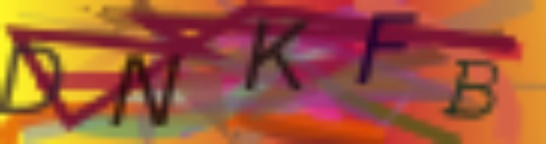B: (440, 55, 504, 120)
D: (1, 45, 64, 117)
F: (355, 5, 420, 86)
K: (246, 15, 308, 95)
N: (106, 52, 183, 131)
